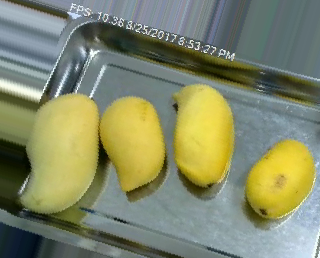Mango: (19, 95, 99, 214), (98, 95, 167, 191), (175, 83, 233, 183), (244, 138, 315, 216)
